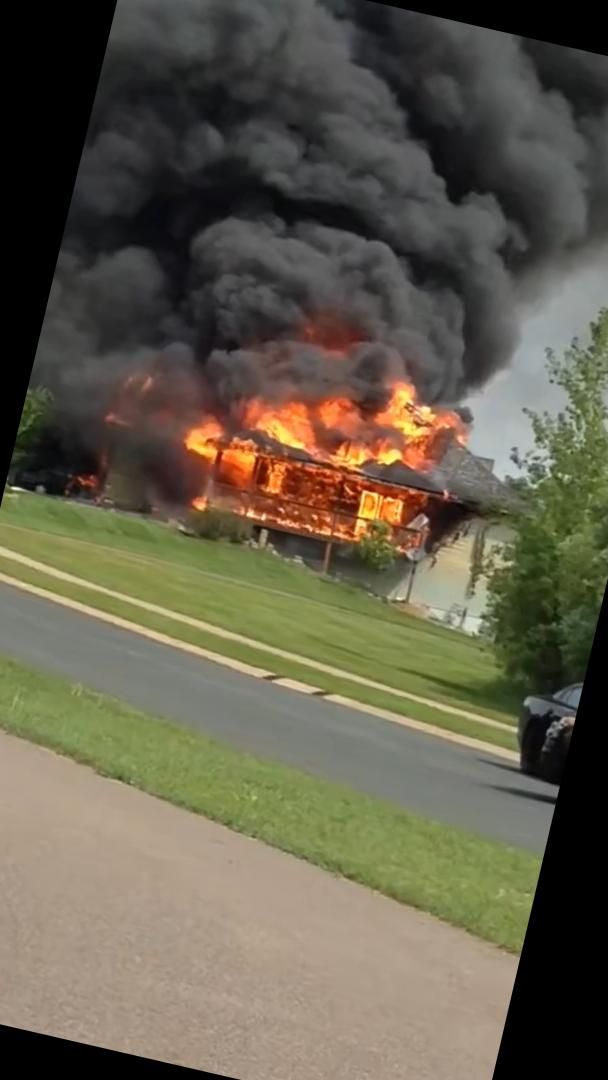Fire: (159, 307, 487, 584)
Smoke: (44, 0, 608, 424)
